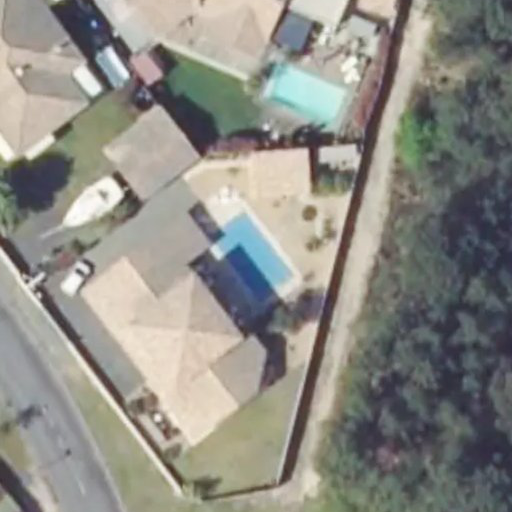pool: (216, 222, 298, 257)
